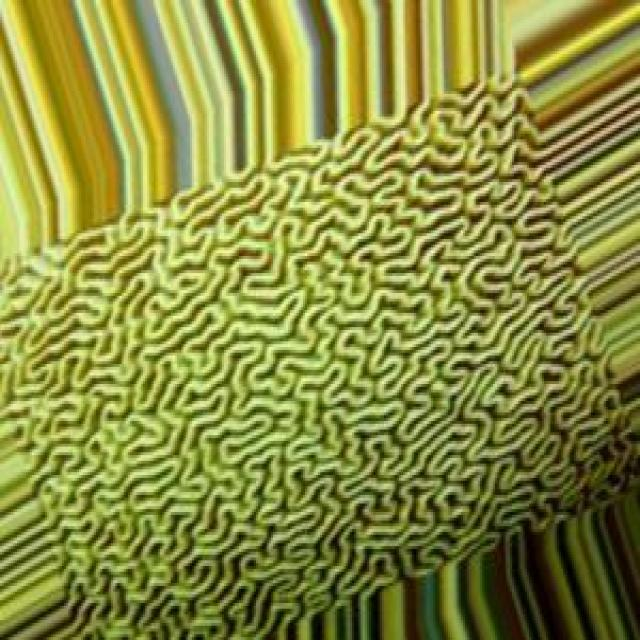Healthy: (1, 88, 639, 636)
